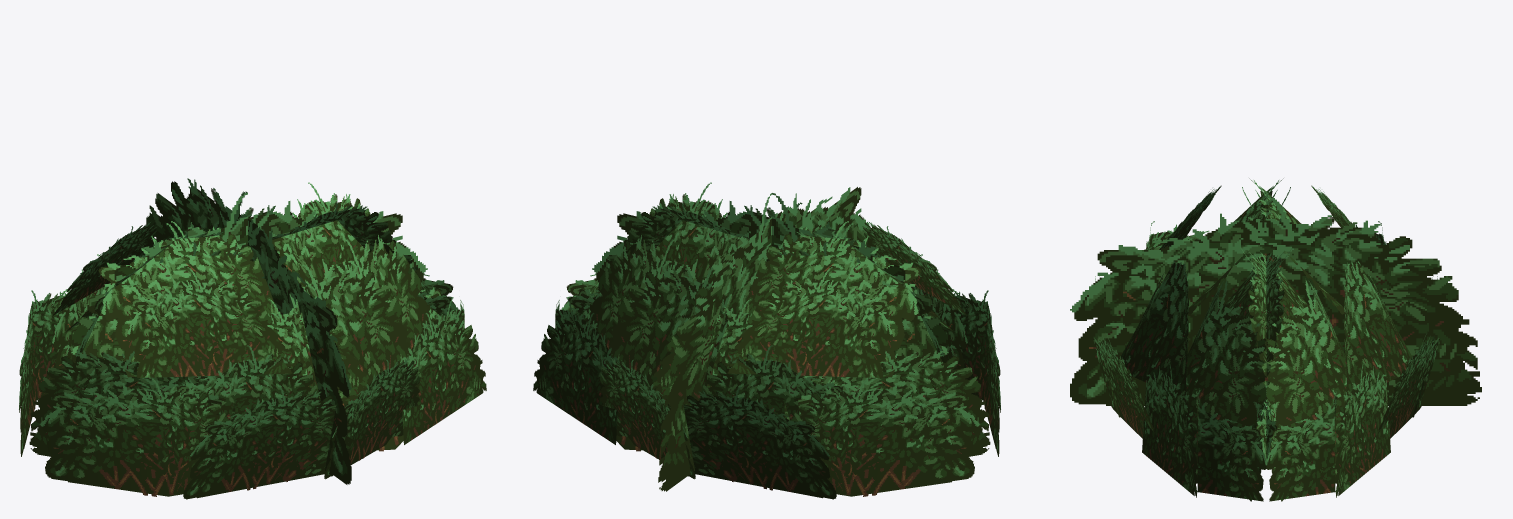
Rendered from bush.glb.
3 renders of one model, left to right at view 1: azimuth 30°, elevation 25°; view 2: azimuth 150°, elevation 25°; view 3: azimuth 270°, elevation 25°, orthographic. The views are drawn at different scales.
Parts seen in each view (by area): view 1: bush, Plane; view 2: bush, Plane; view 3: bush, Plane.
Boxes of the visible parts, x1,y1,x2,y2 form: bush: (19,182,486,499); Plane: (62,178,427,484); bush: (533,182,1000,499); Plane: (592,187,957,491); bush: (1093,178,1439,501); Plane: (1070,196,1481,405).
Size of the model in its own units: 2.67 by 1.84 by 2.56.
1 material, 1 textured.
